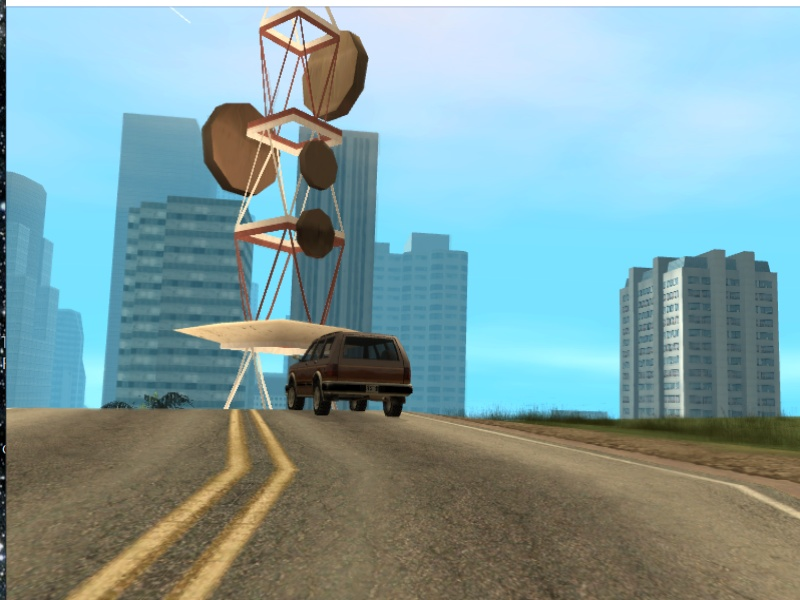vehicle: (282, 330, 417, 421)
